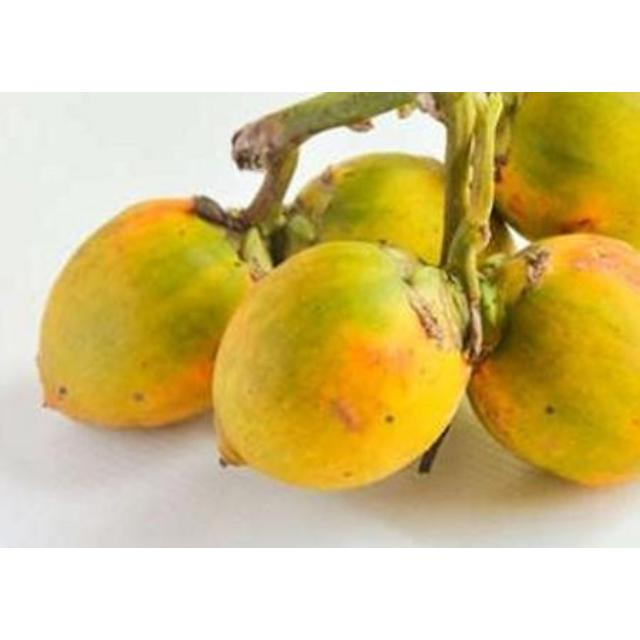good: (211, 238, 464, 490), (35, 199, 256, 431), (464, 234, 640, 486), (491, 92, 639, 260), (284, 152, 490, 270)
